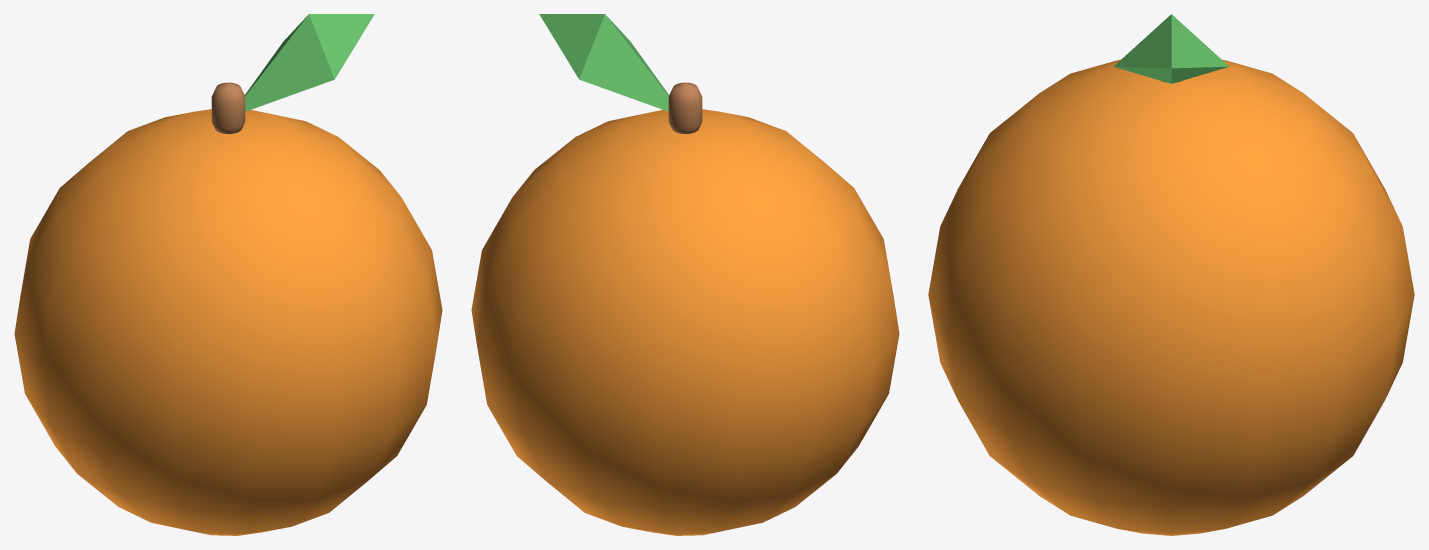
Rendered from Orange.fbx.
The picture shows the model from 3 angles, left to right: view 1: azimuth 30°, elevation 25°; view 2: azimuth 150°, elevation 25°; view 3: azimuth 270°, elevation 25°; orthographic projection. The views are drawn at different scales.
Parts seen in each view (by area): view 1: GEO-Body; view 2: GEO-Body; view 3: GEO-Body.
Part boxes in pixels (x1,y1,x2,y2): GEO-Body: [14, 14, 442, 535]; GEO-Body: [471, 14, 899, 535]; GEO-Body: [928, 14, 1414, 535].
Bounding box in the file's own units: 0.46 × 0.569 × 0.46.
